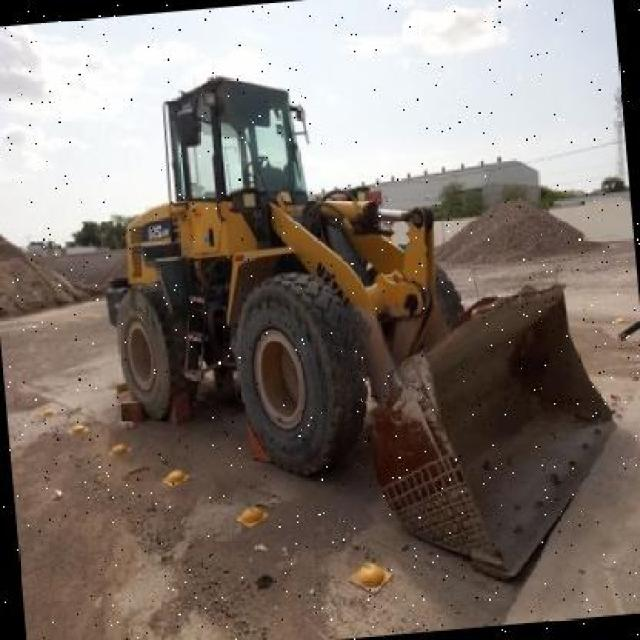buldozerpayloadergrader: (88, 33, 630, 618)
